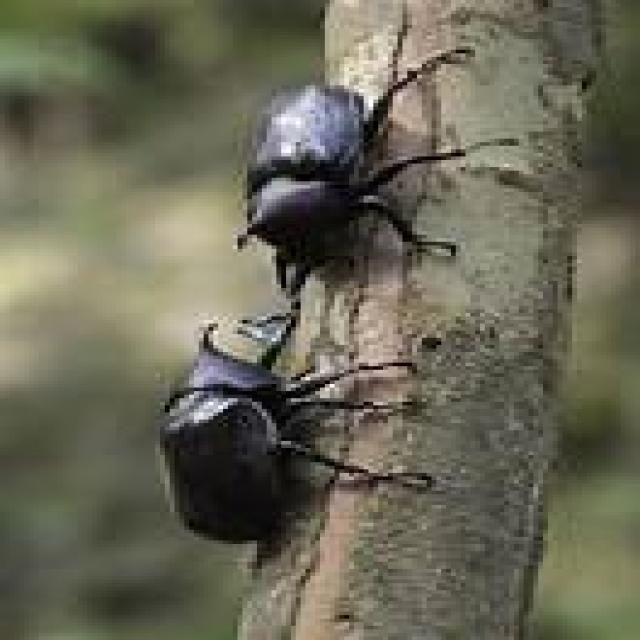Rhino-beetle: (227, 57, 435, 280), (149, 288, 312, 538)
